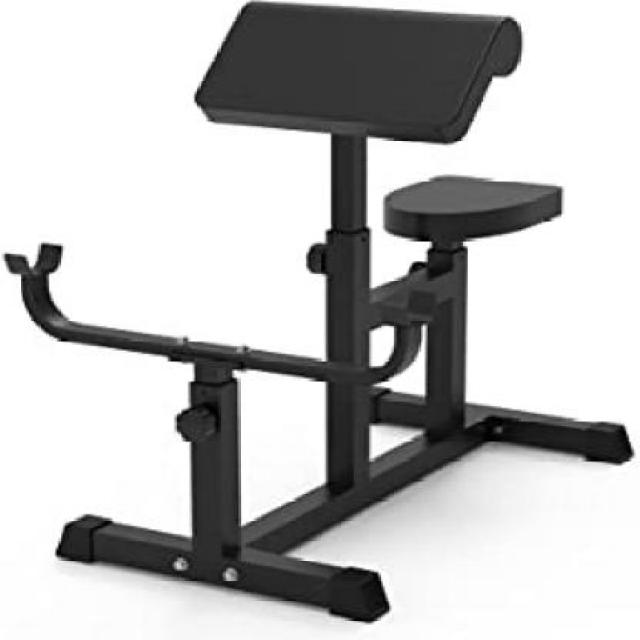arm curl machine: (8, 2, 634, 623)
